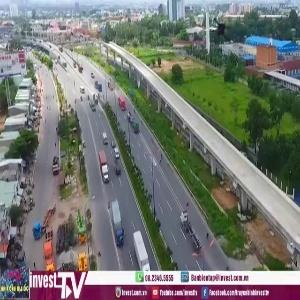drone: (199, 12, 239, 52)
